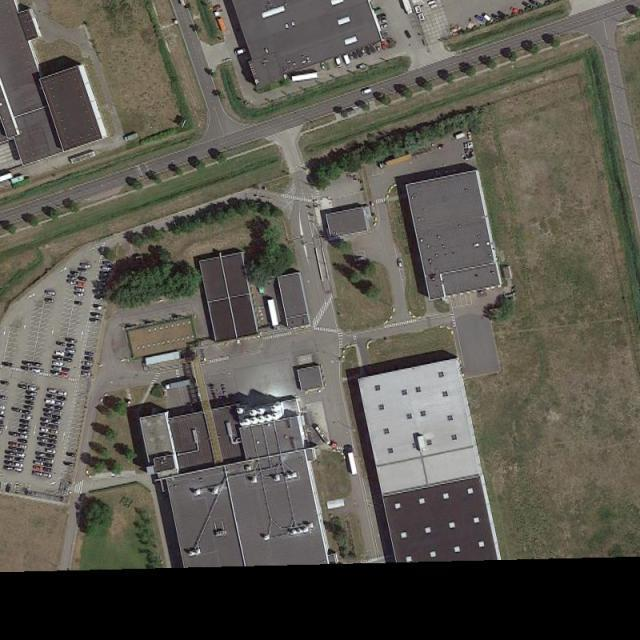vehicle: (377, 151, 414, 170), (266, 296, 282, 330), (344, 449, 361, 477), (291, 73, 320, 82), (1, 169, 18, 183), (401, 1, 415, 17), (342, 53, 353, 68), (334, 57, 343, 69), (483, 14, 494, 23), (235, 48, 247, 56), (522, 2, 533, 10), (354, 256, 365, 264), (361, 89, 373, 96), (474, 14, 484, 22), (368, 44, 376, 54), (212, 3, 222, 11), (89, 318, 102, 324), (44, 448, 57, 454), (357, 47, 364, 58), (319, 62, 326, 73), (79, 262, 91, 268), (45, 443, 57, 449), (82, 360, 94, 366), (510, 6, 519, 14), (490, 14, 502, 20), (46, 388, 58, 394), (42, 410, 52, 417), (9, 431, 19, 438), (54, 350, 64, 357), (42, 466, 52, 473), (351, 50, 358, 60), (58, 390, 68, 397), (101, 266, 112, 272), (92, 304, 103, 310), (2, 465, 13, 471), (50, 365, 61, 371), (348, 51, 354, 62), (26, 391, 37, 397), (19, 415, 32, 420), (404, 30, 411, 39), (90, 313, 102, 318), (102, 261, 114, 266), (73, 300, 83, 306), (45, 399, 55, 405), (56, 396, 66, 402), (18, 424, 30, 429), (18, 429, 30, 434), (18, 444, 28, 450), (48, 434, 58, 440), (66, 338, 78, 343), (529, 1, 541, 6), (376, 14, 386, 20), (16, 439, 27, 444), (4, 450, 15, 455), (66, 344, 77, 349), (19, 366, 30, 371), (31, 471, 42, 476), (6, 483, 11, 494), (398, 259, 403, 270), (28, 386, 39, 391), (61, 366, 70, 372), (498, 11, 507, 17), (364, 46, 370, 55), (375, 44, 381, 53), (378, 19, 387, 25), (44, 290, 57, 294), (55, 401, 65, 406), (50, 421, 60, 426), (49, 425, 59, 430), (14, 458, 24, 463), (3, 460, 13, 465), (13, 468, 23, 473), (64, 358, 74, 363), (362, 47, 367, 57), (24, 401, 34, 406), (10, 407, 20, 412), (43, 298, 55, 302), (49, 429, 58, 434), (5, 455, 14, 460), (48, 440, 57, 445), (50, 370, 59, 375), (1, 381, 10, 386), (96, 290, 107, 294), (99, 272, 110, 276), (74, 288, 85, 292), (73, 293, 84, 297), (50, 416, 61, 420), (53, 361, 64, 365), (55, 342, 66, 346), (66, 350, 77, 354), (83, 356, 94, 360), (80, 366, 91, 370), (79, 370, 90, 374), (32, 368, 43, 372), (2, 362, 13, 366), (32, 362, 43, 366), (66, 453, 77, 457), (22, 406, 33, 410), (19, 419, 30, 423), (66, 280, 76, 284), (98, 282, 108, 286), (54, 406, 64, 410), (42, 407, 52, 411), (37, 437, 47, 441), (46, 394, 56, 398), (16, 454, 26, 458), (8, 442, 18, 446), (16, 450, 26, 454), (44, 454, 54, 458), (64, 462, 74, 466), (381, 42, 386, 50), (24, 396, 34, 400), (77, 282, 86, 286), (66, 275, 78, 278), (39, 422, 48, 426), (39, 428, 48, 432), (19, 434, 28, 438), (7, 447, 16, 451), (14, 463, 23, 467), (83, 352, 95, 355), (35, 452, 44, 456), (34, 456, 43, 460), (33, 461, 42, 465), (32, 466, 41, 470), (42, 474, 51, 478), (18, 385, 27, 389), (21, 410, 30, 414), (52, 410, 60, 414), (40, 418, 48, 422), (65, 354, 73, 358), (37, 442, 45, 446), (380, 25, 388, 29), (96, 295, 106, 298), (99, 276, 109, 279), (77, 270, 87, 273), (52, 356, 62, 359), (44, 460, 54, 463), (43, 463, 53, 466), (1, 396, 7, 401), (70, 271, 79, 274), (45, 405, 54, 408), (22, 361, 31, 364), (78, 277, 86, 280), (39, 434, 47, 437), (98, 286, 107, 288), (1, 406, 5, 410), (1, 420, 5, 424), (1, 410, 4, 415), (1, 415, 5, 418), (1, 425, 3, 430), (1, 430, 2, 434)
